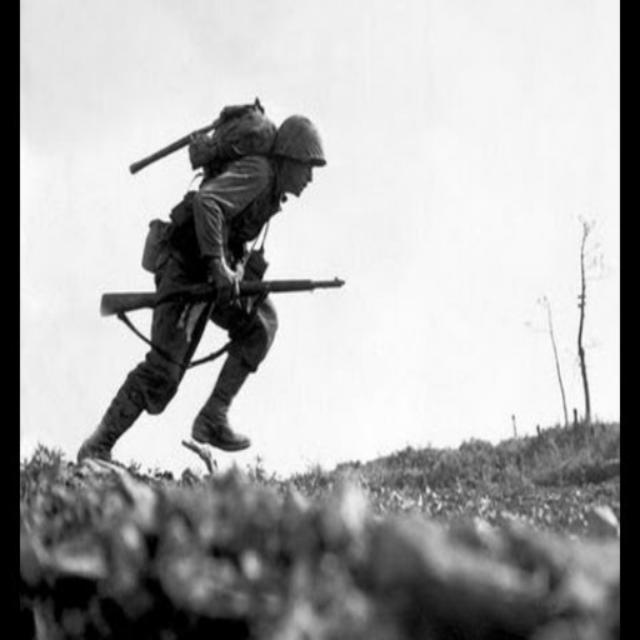other: (72, 96, 328, 468)
